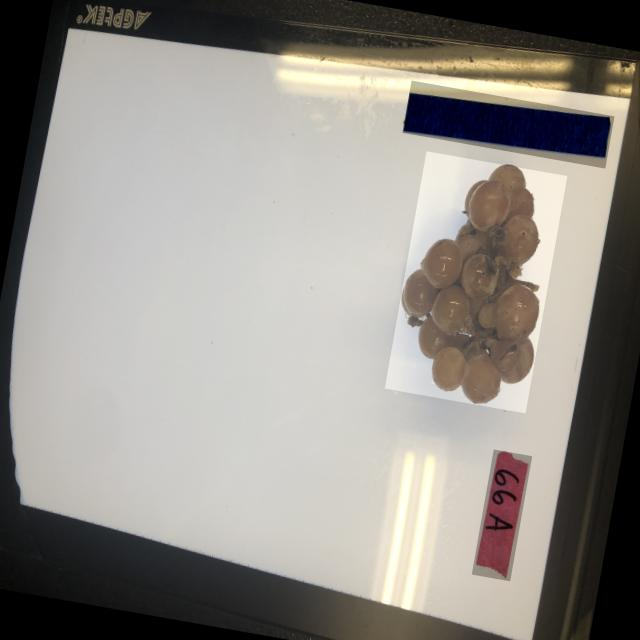grape_cluster: (383, 150, 566, 412)
index: (470, 449, 530, 581)
measure_label: (401, 80, 613, 168)
